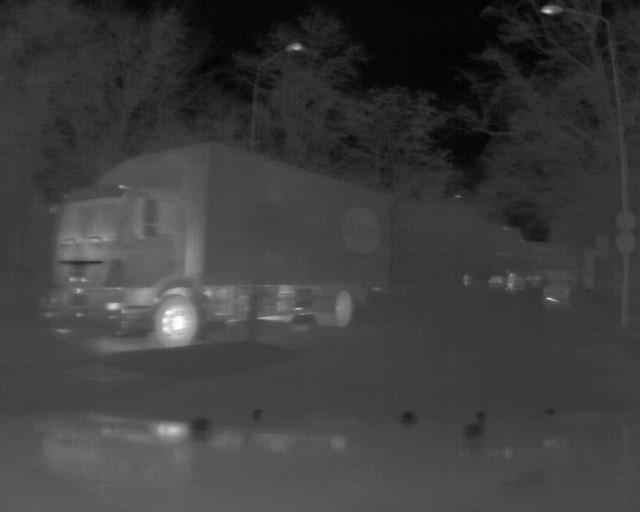car: (541, 277, 574, 306), (486, 273, 505, 291)
person: (504, 269, 522, 297), (460, 270, 470, 290)
